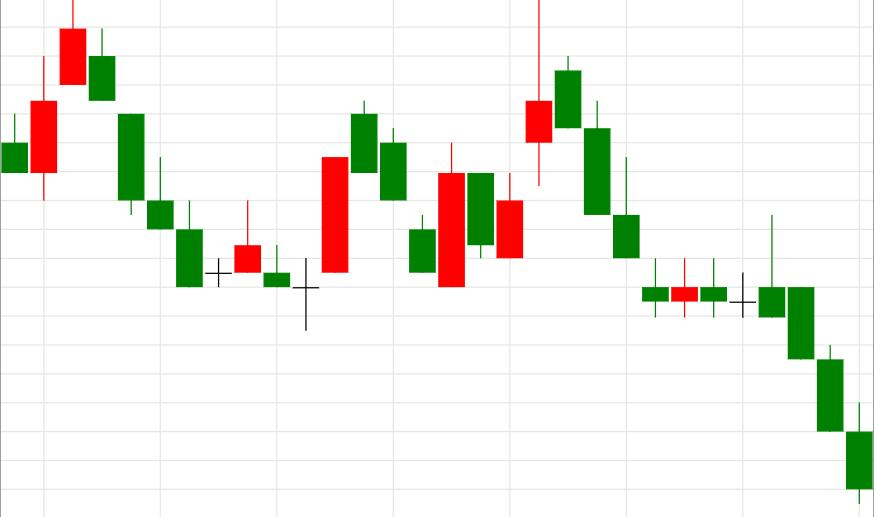inverse_hammer_rise: (554, 55, 786, 318)
morning_star_rise: (88, 27, 348, 330)
